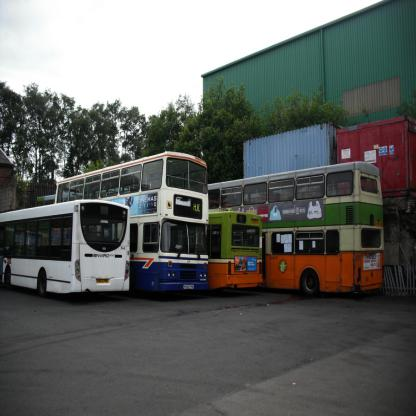Bus: (0, 150, 383, 298)
